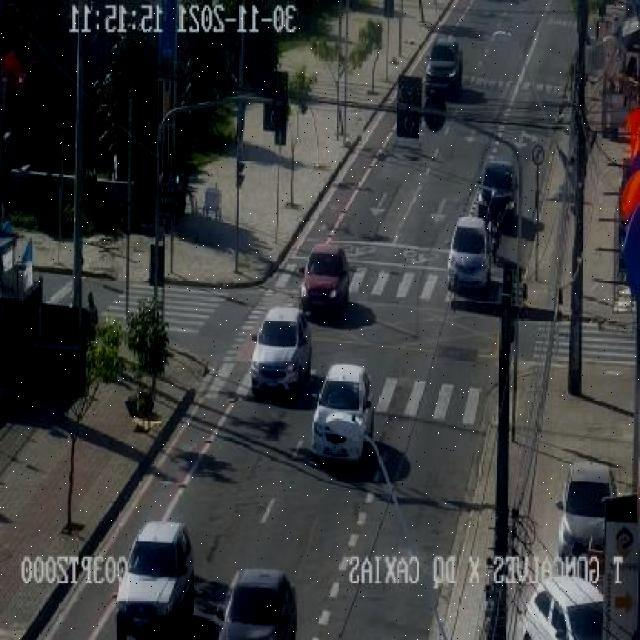Car: (116, 520, 196, 636), (310, 364, 374, 461), (250, 306, 314, 398), (216, 569, 296, 640), (557, 462, 617, 556), (521, 576, 605, 639), (301, 242, 350, 313), (447, 216, 492, 292), (477, 157, 518, 223), (425, 36, 463, 96)
